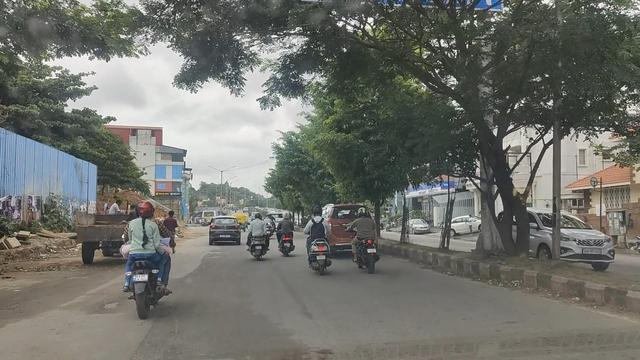LMV: (131, 201, 165, 314), (353, 206, 383, 269), (306, 211, 334, 273), (209, 216, 240, 244), (251, 212, 265, 261), (278, 213, 293, 254)
RoadDamages: (43, 283, 115, 322), (289, 337, 333, 360)
